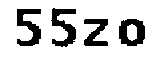5: (11, 3, 46, 54), (50, 6, 78, 51)
o: (116, 15, 147, 49)
z: (79, 17, 112, 51)
